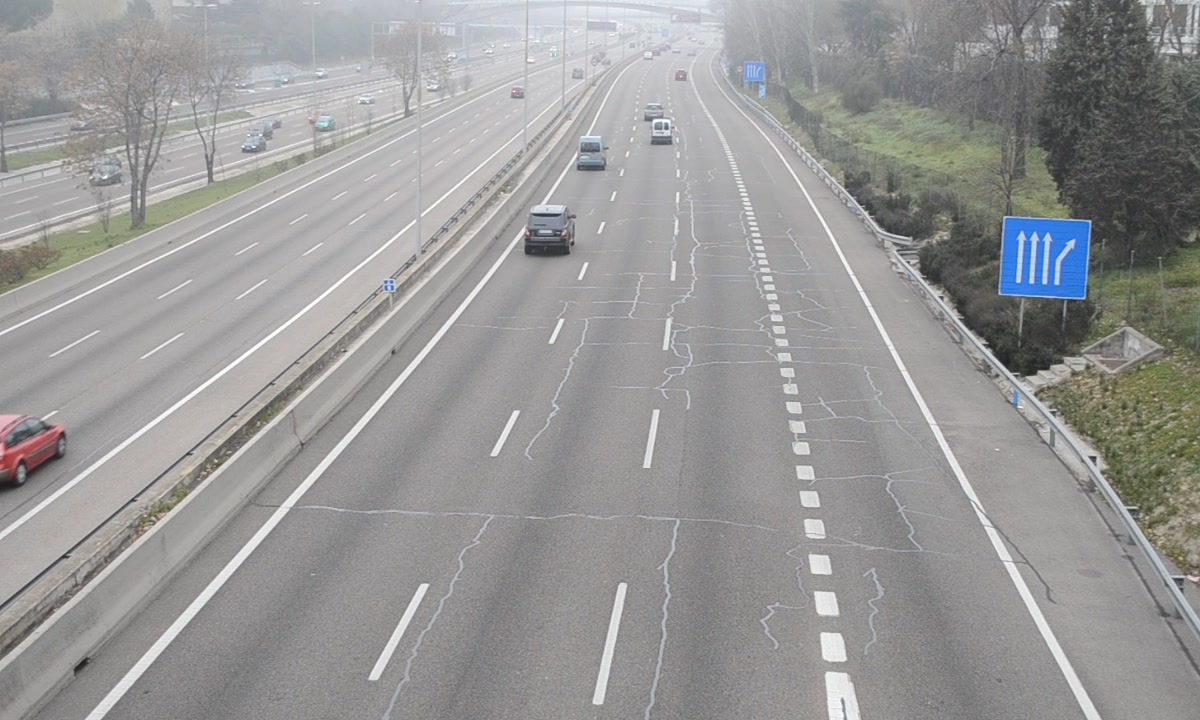car: (524, 205, 574, 251)
van: (576, 135, 606, 173)
